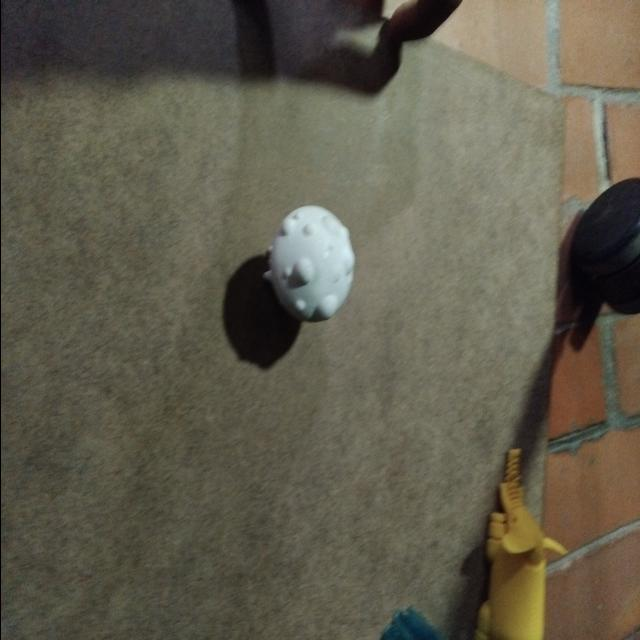Hongo: (255, 186, 362, 338)
